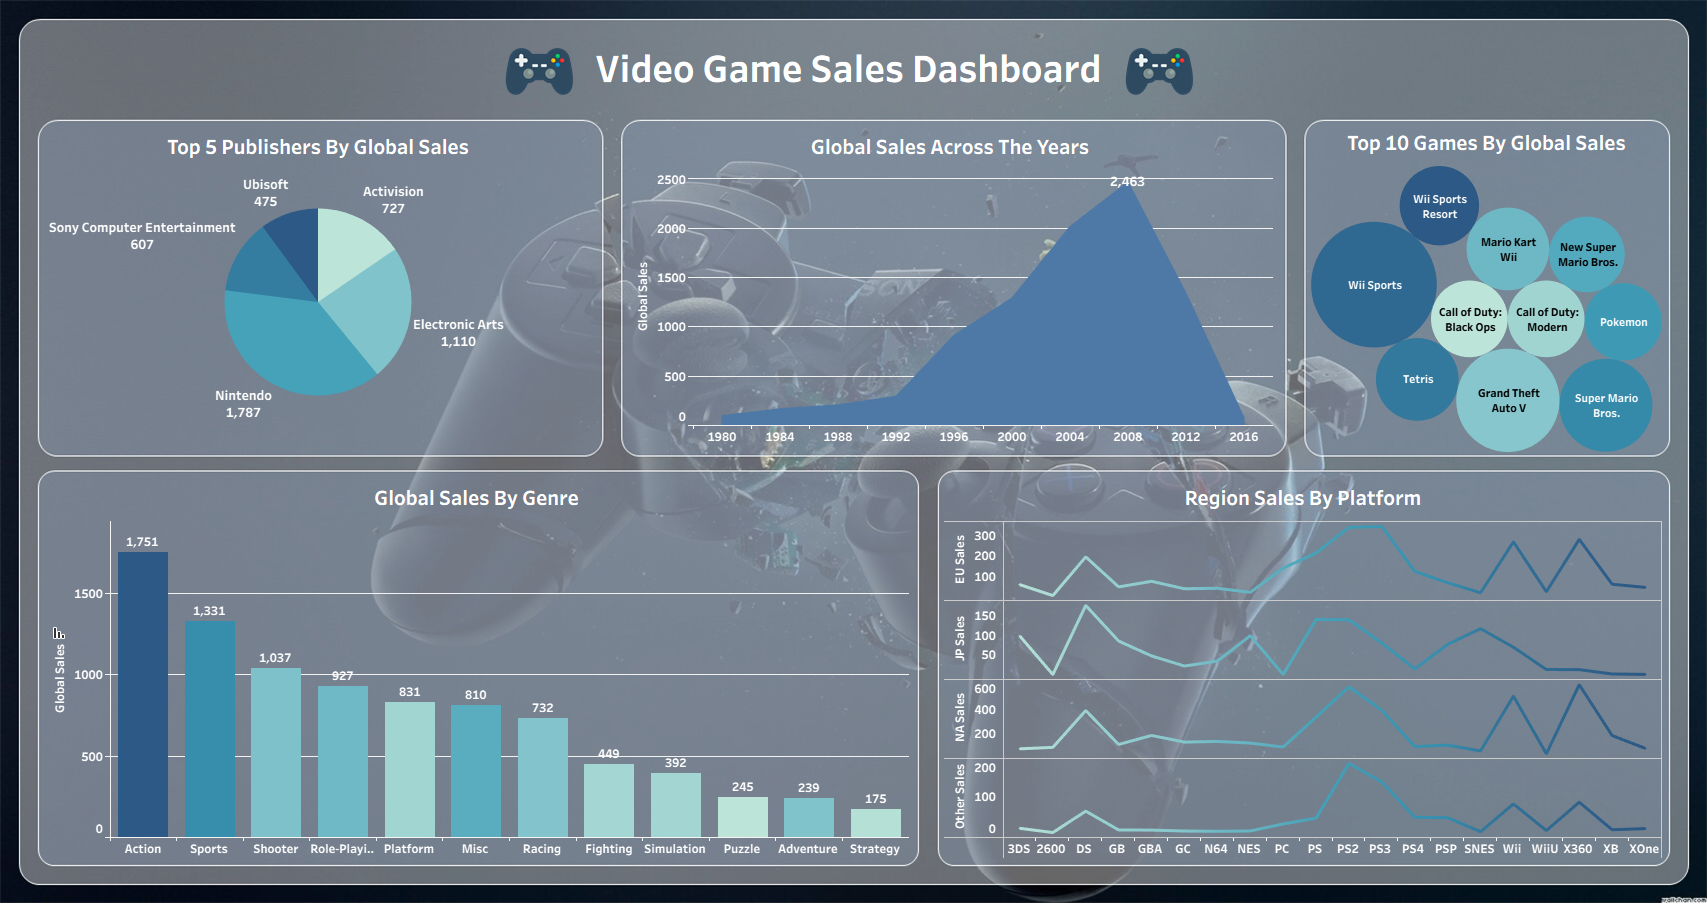

Layout of this report page (visuals, bound fields, positions):
{"tool":"tableau","page":{"name":"Dashboard","canvas":[1709,904],"ordinal":0},"visuals":[{"type":"image","param":"D:/Projects/tableau-vgsales-dashboard/images/background.png","box":[0,0,1709,903]},{"type":"text","box":[550,28,599,78]},{"type":"image","param":"D:/Projects/tableau-vgsales-dashboard/images/joystick.png","box":[500,36,80,70]},{"type":"image","param":"D:/Projects/tableau-vgsales-dashboard/images/joystick.png","box":[1120,36,80,70]},{"type":"worksheet","title":"Top 10 Games By Global Sales","mark":"Circle","box":[1310,124,359,328]},{"type":"worksheet","title":"Top 5 Publishers By Global Sales","mark":"Pie","box":[49,128,547,316]},{"type":"worksheet","title":"Global Sales Across The Years","mark":"Area","rows":["Global_Sales"],"cols":["Year (bin)"],"box":[628,128,646,318]},{"type":"worksheet","title":"Global Sales By Genre","mark":"Automatic","rows":["Global_Sales"],"cols":["Genre"],"box":[45,479,865,379]},{"type":"worksheet","title":"Region Sales By Platform","mark":"Line","rows":["EU_Sales","JP_Sales","NA_Sales","Other_Sales"],"cols":["Platform"],"box":[945,479,718,380]}]}

Visuals, with their boxes in screenshot pixels (x1, y1, x2, y2), scaled from the page's 1709x904 canvas onto the 1707x903 screenshot:
image: region(0, 0, 1706, 902)
text: region(549, 28, 1148, 106)
image: region(499, 36, 579, 106)
image: region(1119, 36, 1199, 106)
"Top 10 Games By Global Sales" worksheet (Circle marks): region(1308, 124, 1667, 452)
"Top 5 Publishers By Global Sales" worksheet (Pie marks): region(49, 128, 595, 444)
"Global Sales Across The Years" worksheet (Area marks): region(627, 128, 1273, 446)
"Global Sales By Genre" worksheet: region(45, 478, 909, 857)
"Region Sales By Platform" worksheet (Line marks): region(944, 478, 1661, 858)
